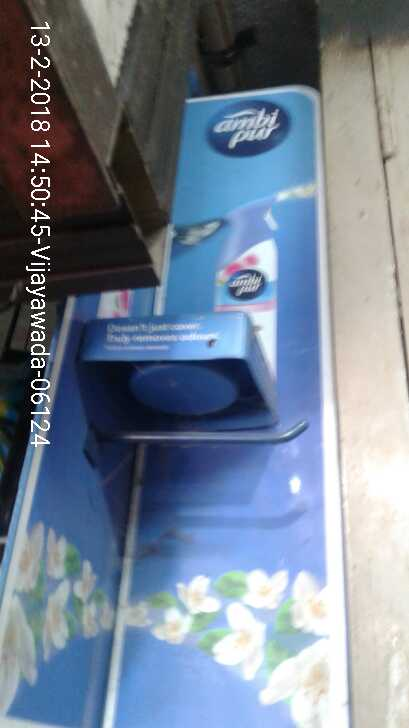reject: (187, 110, 333, 339)
